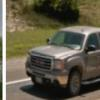cars: (26, 27, 100, 96)
